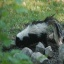skunk: (16, 19, 63, 44)
